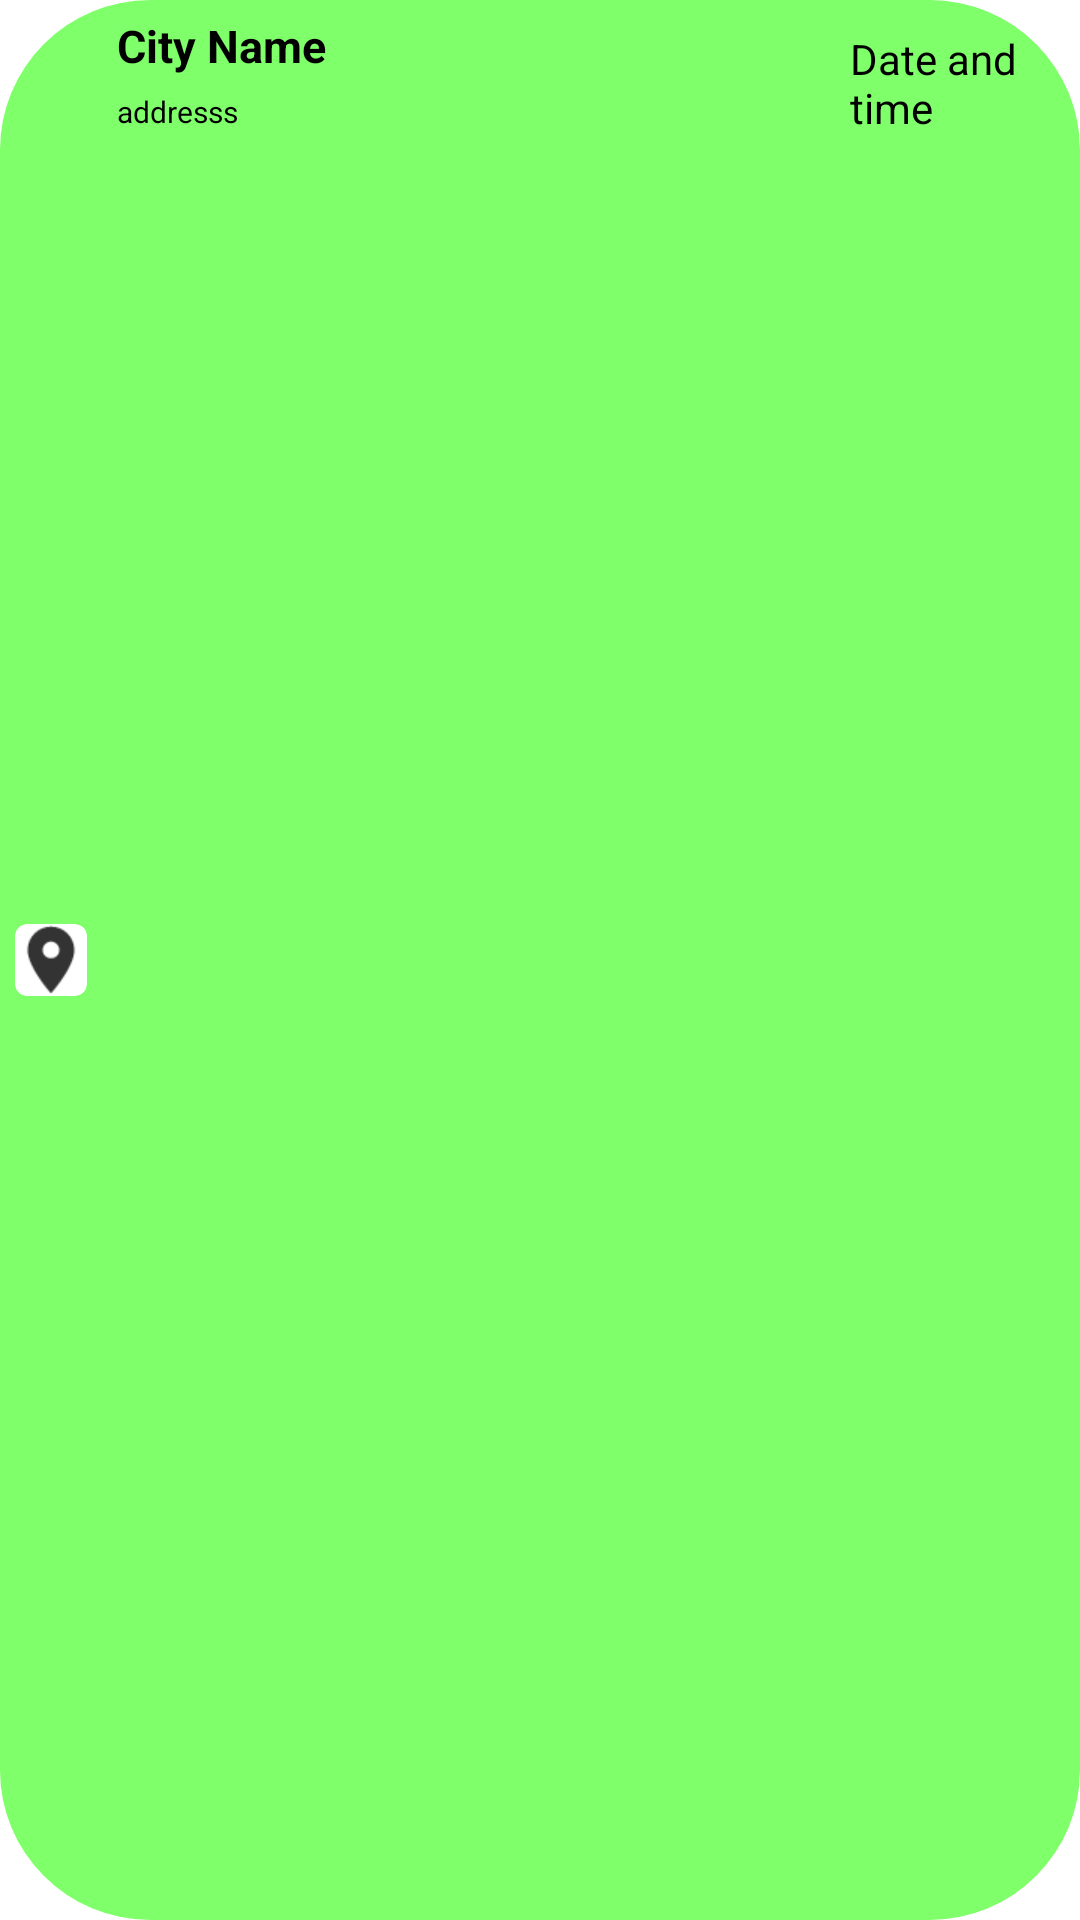

Where icons sit on this 1080px×1920px app screen, as (x1, y1, x2, y2):
location: (15, 924, 87, 996)
